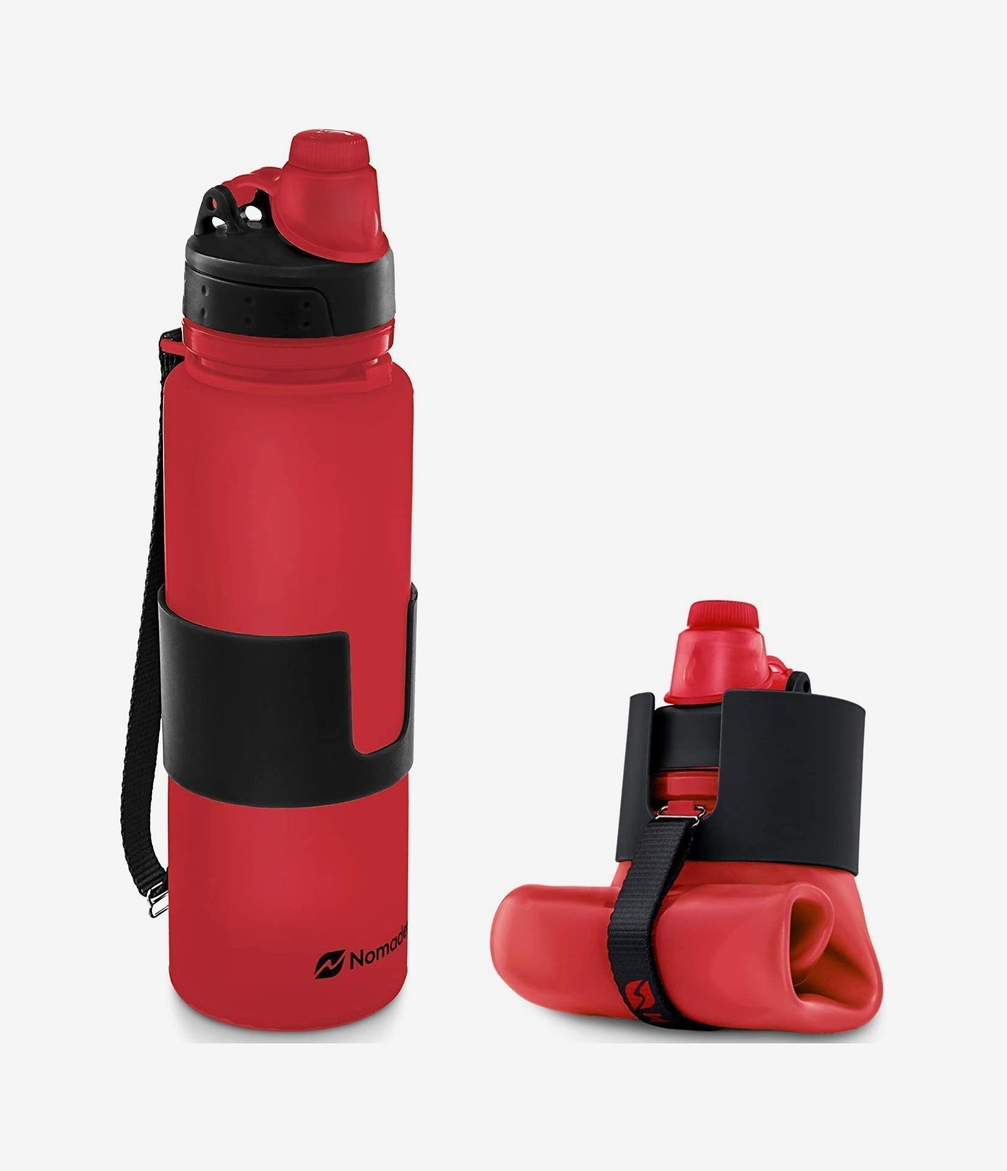gym bottle: (116, 121, 421, 1039)
